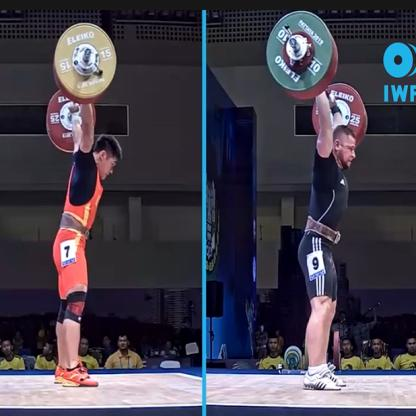Barbell: (262, 8, 338, 99), (55, 19, 118, 100)
